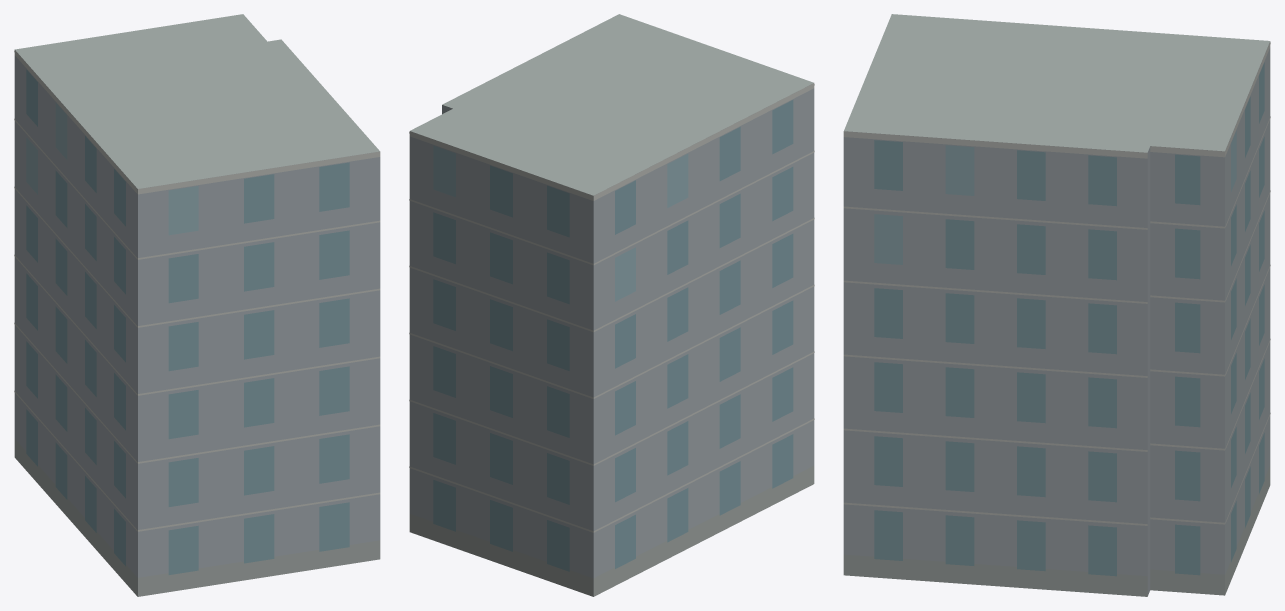
File: survey-upis-32997528.glb
3 renders of one model, left to right at view 1: azimuth 30°, elevation 25°; view 2: azimuth 150°, elevation 25°; view 3: azimuth 270°, elevation 25°, orthographic. The views are drawn at different scales.
Visible parts, largest first — view 1: survey-upis-32997528.tmp; view 2: survey-upis-32997528.tmp; view 3: survey-upis-32997528.tmp.
Part boxes in pixels (left/top/right/bottom): survey-upis-32997528.tmp: left=14, top=14, right=380, bottom=596; survey-upis-32997528.tmp: left=409, top=14, right=814, bottom=596; survey-upis-32997528.tmp: left=843, top=14, right=1270, bottom=596.
Bounding box in the file's own units: 12.22 × 18.2 × 15.87.
